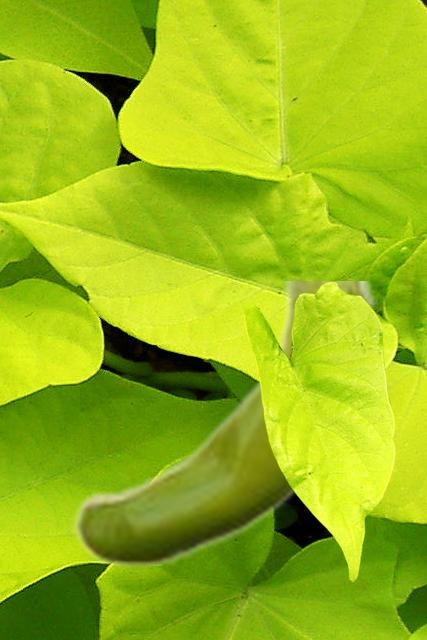green_chili: (71, 281, 376, 564)
